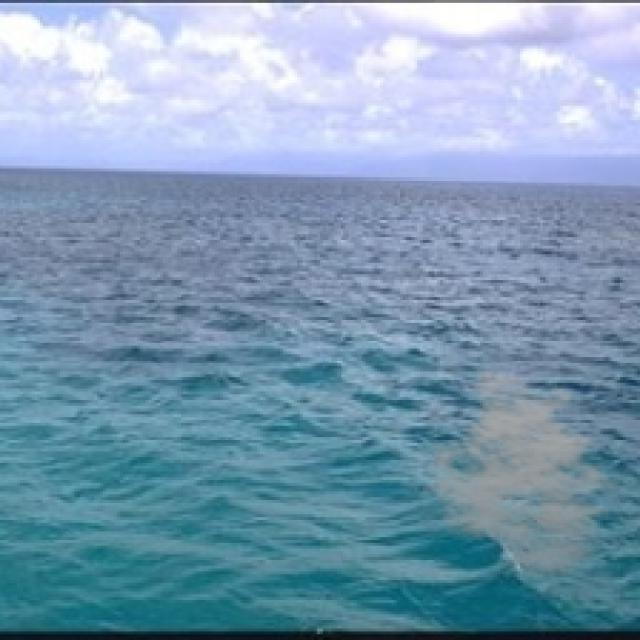smoke: (420, 369, 629, 580)
